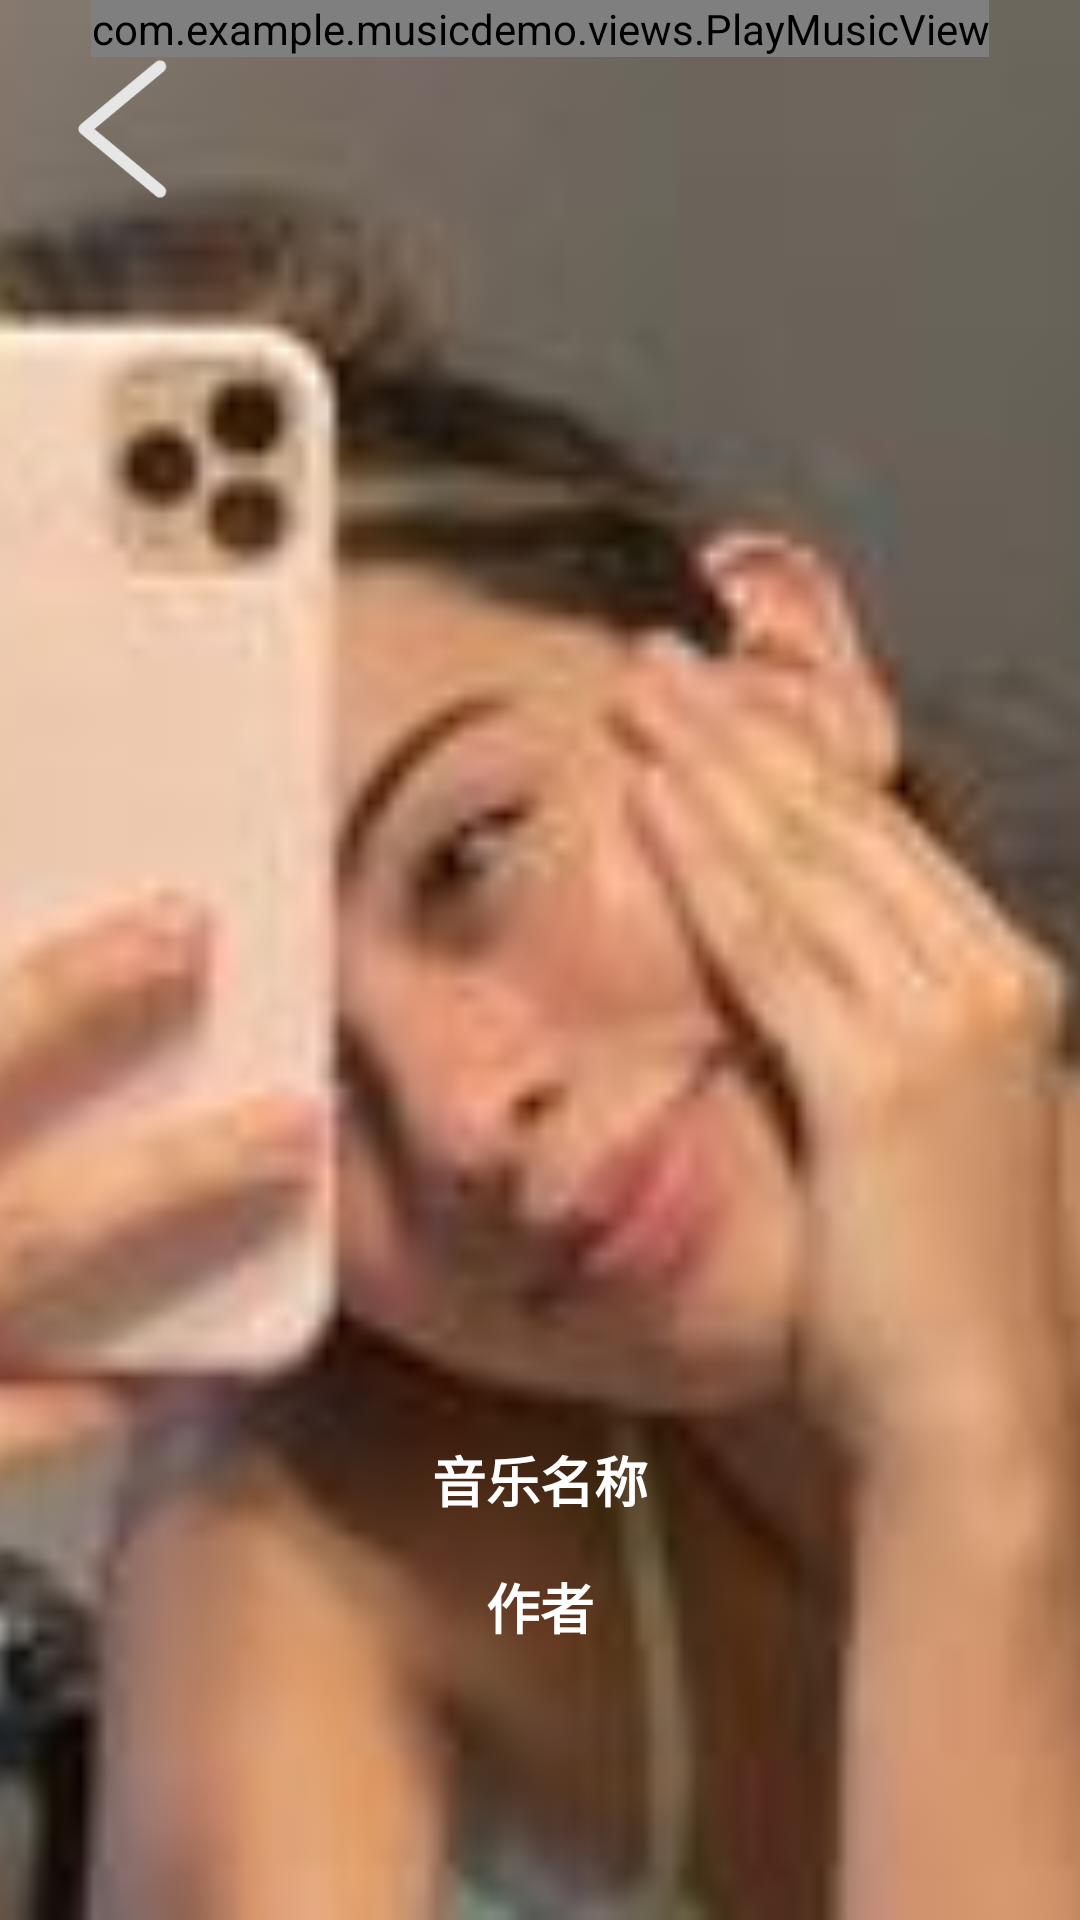

Named icons in this screenshot (1080w x 1920h) and their centers, (x,y):
back: (146,138)
